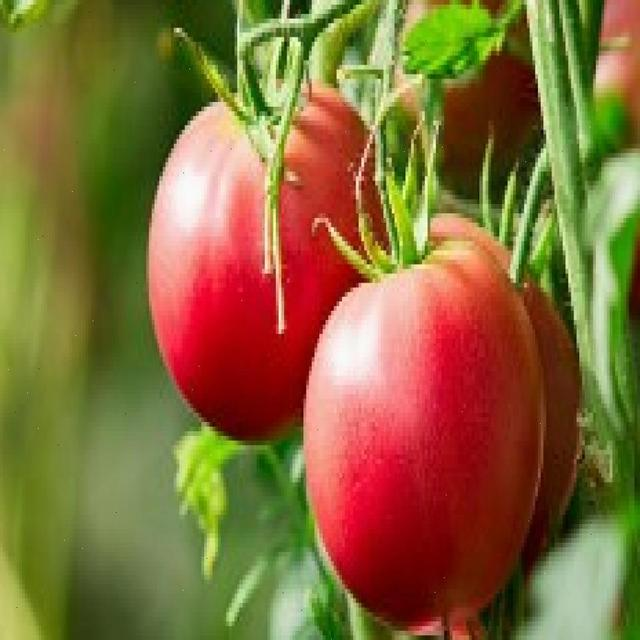Healthy Fruit: (155, 176, 285, 290)
